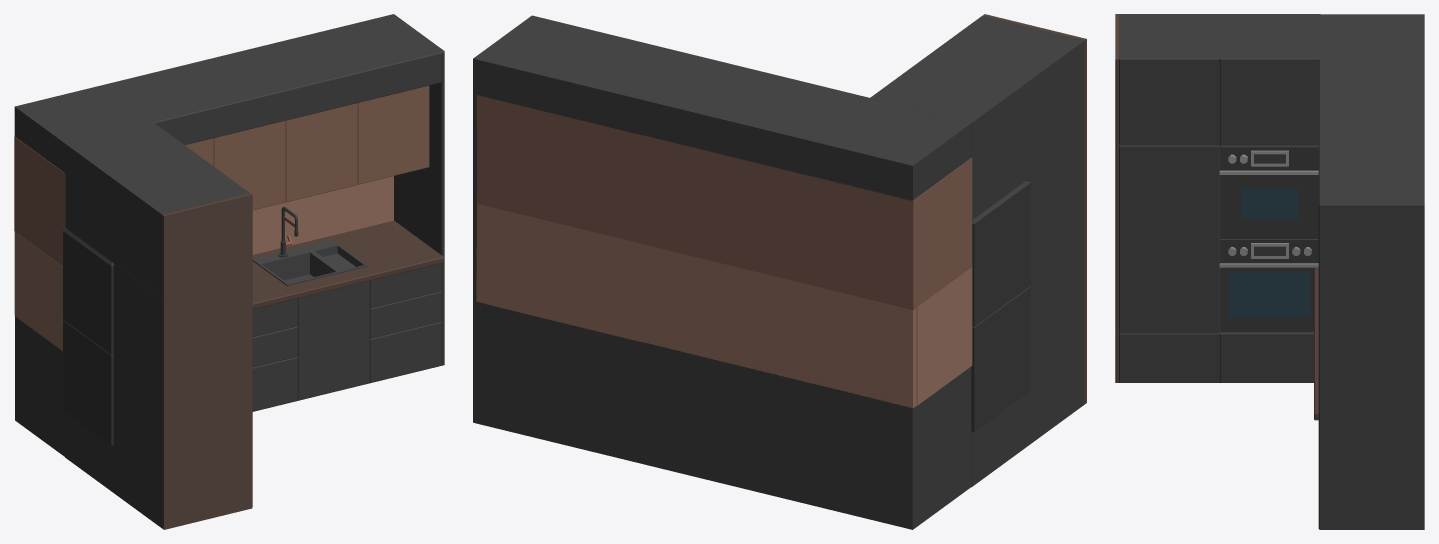
File: kitchen037.glb
3 views of the same model, side by side, from view 1: azimuth 30°, elevation 25°; view 2: azimuth 150°, elevation 25°; view 3: azimuth 270°, elevation 25° (orthographic). The views are drawn at different scales.
Visible parts, largest first — view 1: kitchen.037; view 2: kitchen.037; view 3: kitchen.037.
Boxes of the visible parts, x1,y1,x2,y2 form: kitchen.037: (14,14,444,529); kitchen.037: (473,14,1086,529); kitchen.037: (1115,14,1424,529).
Bounding box in the file's own units: 2.66 × 2.09 × 1.81.
Materials: 1 (1 with a texture image).
